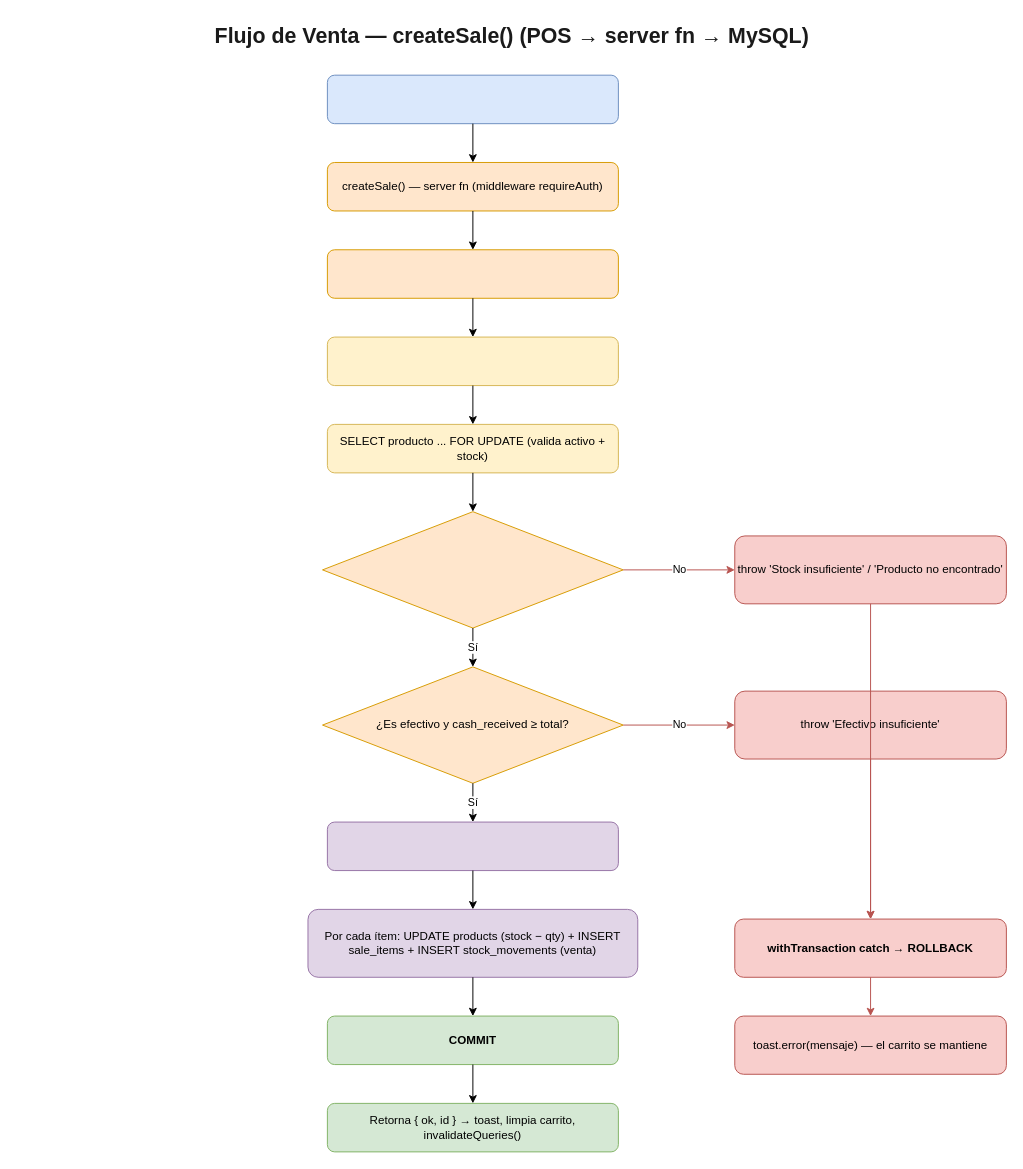
The diagram is 1023 pixels wide and 1169 high, and some of its shapes have lost their labels. The shapes that lost their labels are listed below. From the top down, each one's box as (x1, y1, x2, y2) in pixels, then its label:
(326, 74, 618, 124): Usuario arma el carrito y pulsa Cobrar (pos.tsx)
(326, 249, 618, 298): parseSale(): valida payload (carrito no vacío)
(326, 336, 618, 386): withTransaction() → BEGIN
(322, 511, 623, 628): ¿Producto activo y stock suficiente?
(326, 821, 618, 871): INSERT sales (subtotal, igv, total, método, vuelto)
